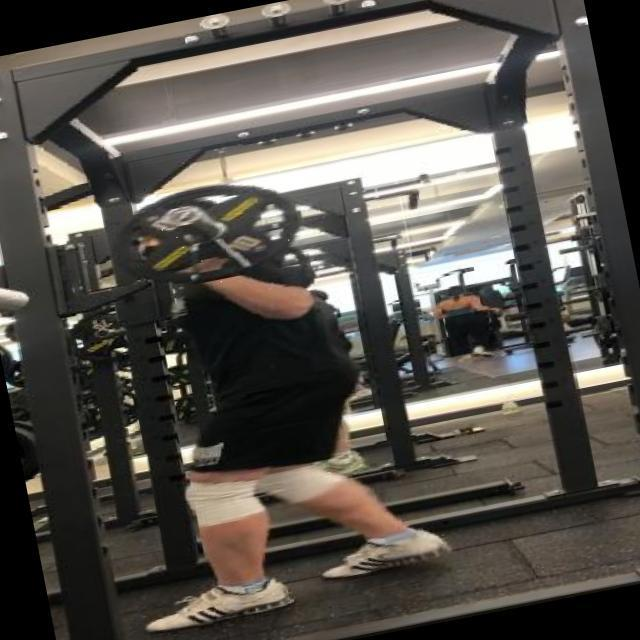barbell: (92, 161, 322, 311)
